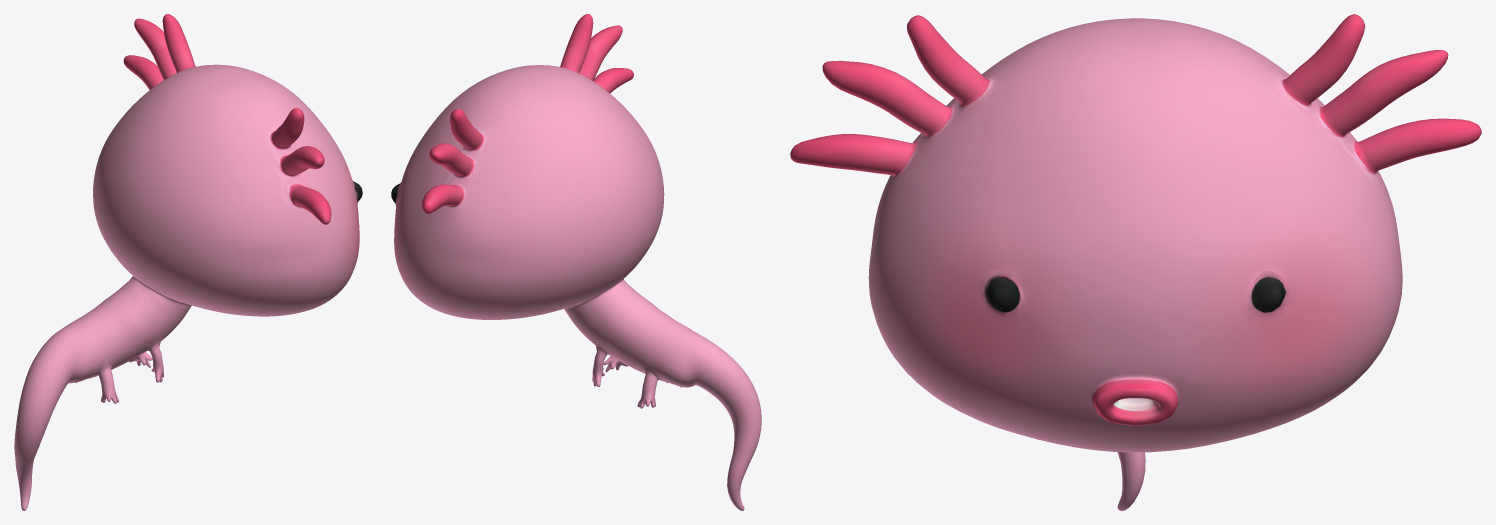
File: Axolotl.glb
The picture shows the model from 3 angles, left to right: view 1: azimuth 30°, elevation 25°; view 2: azimuth 150°, elevation 25°; view 3: azimuth 270°, elevation 25°; orthographic projection. The views are drawn at different scales.
Parts seen in each view (by area): view 1: tripo_node_50d8c88a-f278-4bfe-a833-460257ed7005; view 2: tripo_node_50d8c88a-f278-4bfe-a833-460257ed7005; view 3: tripo_node_50d8c88a-f278-4bfe-a833-460257ed7005.
Part boxes in pixels (<box>): tripo_node_50d8c88a-f278-4bfe-a833-460257ed7005: <box>14,14,362,510</box>; tripo_node_50d8c88a-f278-4bfe-a833-460257ed7005: <box>391,14,761,510</box>; tripo_node_50d8c88a-f278-4bfe-a833-460257ed7005: <box>790,14,1481,510</box>.
Bounding box in the file's own units: 0.8728 × 0.9809 × 0.9145.
Materials: 1 (1 with a texture image).
